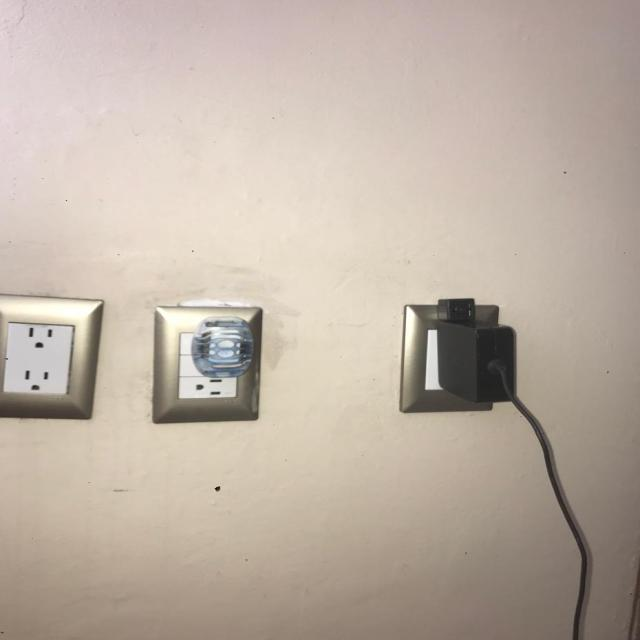hidden camera: (455, 305, 467, 314)
